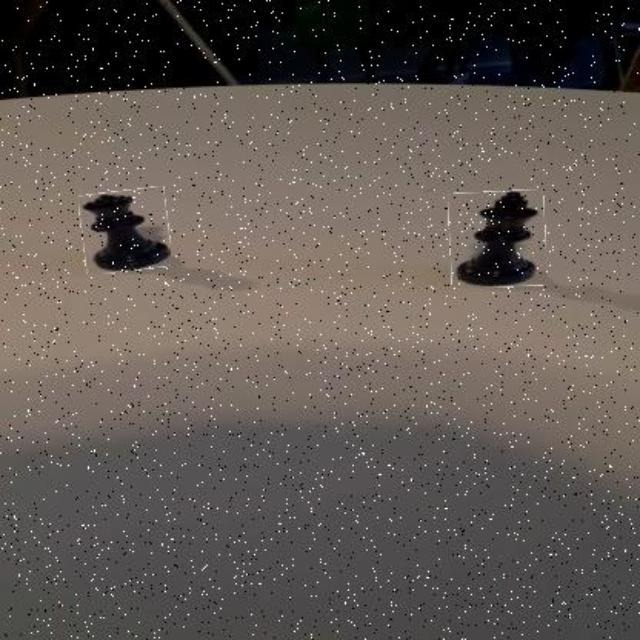black-king: (449, 191, 547, 289)
black-queen: (81, 189, 170, 273)
